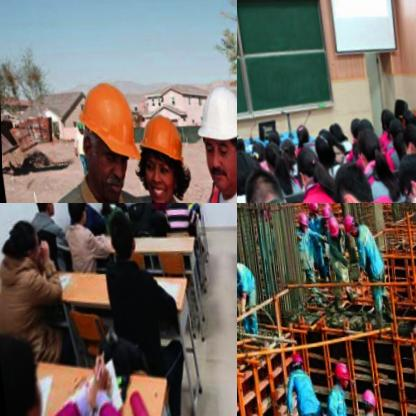head: (329, 154, 381, 203), (237, 158, 287, 203), (2, 212, 41, 268), (101, 208, 136, 265), (390, 142, 416, 203), (291, 139, 324, 184), (354, 121, 382, 161), (237, 141, 256, 188), (310, 125, 334, 159), (385, 112, 407, 141), (398, 117, 416, 152), (376, 101, 397, 127), (61, 203, 84, 225), (262, 138, 281, 164), (246, 135, 265, 159), (292, 119, 310, 141), (278, 135, 294, 159), (348, 112, 364, 136), (327, 114, 343, 136), (263, 121, 278, 144), (355, 113, 371, 134), (28, 203, 51, 214), (237, 129, 245, 152)
helmet: (73, 70, 155, 203), (124, 96, 195, 203), (186, 74, 237, 193), (328, 354, 351, 388), (355, 379, 376, 416), (340, 207, 357, 231), (322, 211, 339, 235), (293, 204, 308, 231), (287, 348, 304, 371)
